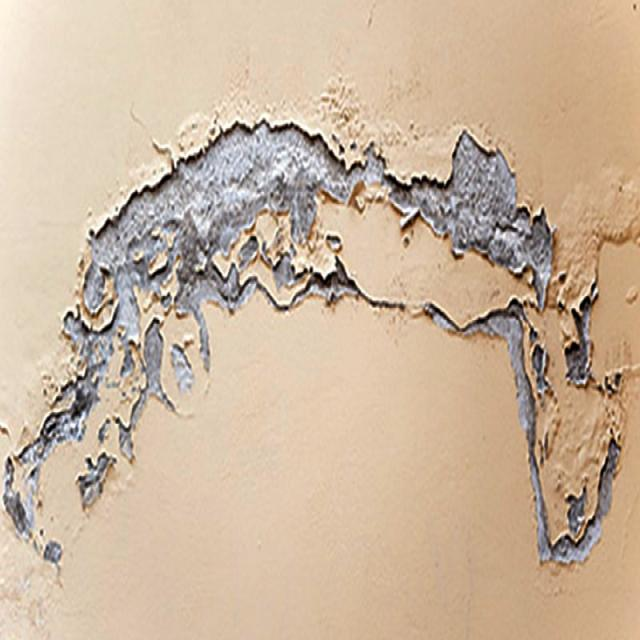Water_Leakage: (4, 67, 638, 630)
